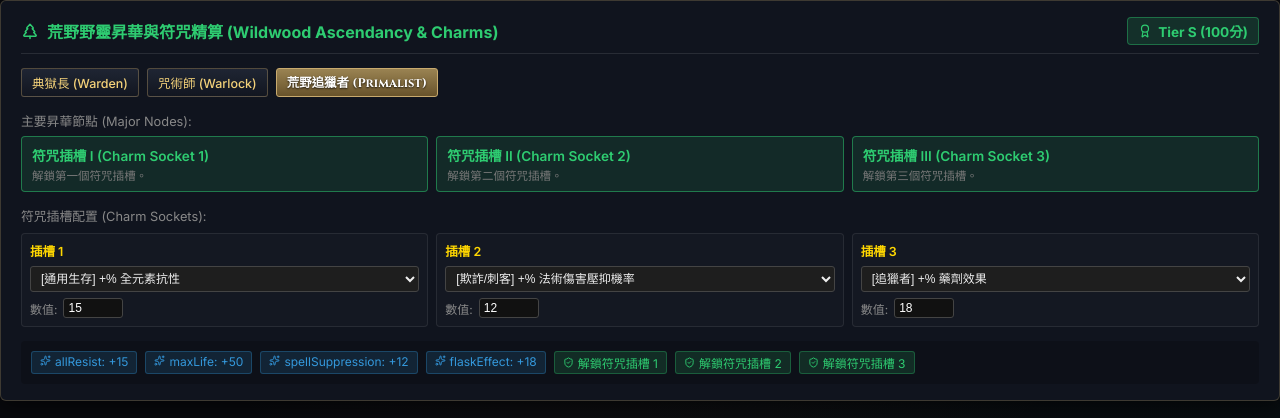
Test: WildwoodCharmsCard › toggles major node and updates special flags
Step 1. Click the button "典獄長 (Warden)" → (80, 82), box x1=21 y1=68 x2=139 y2=97
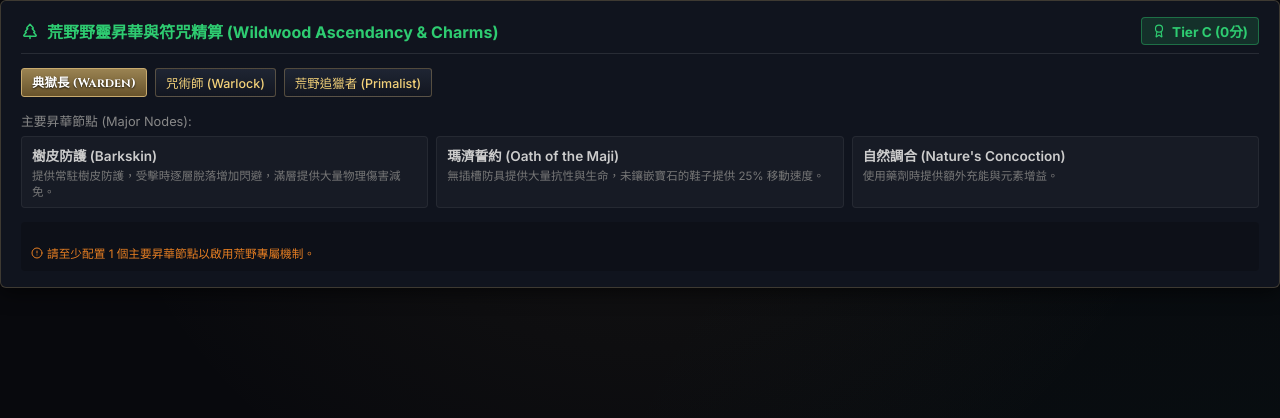
Step 2. Click the text "樹皮防護 (Barkskin)" → (95, 156), box x1=32 y1=148 x2=157 y2=164
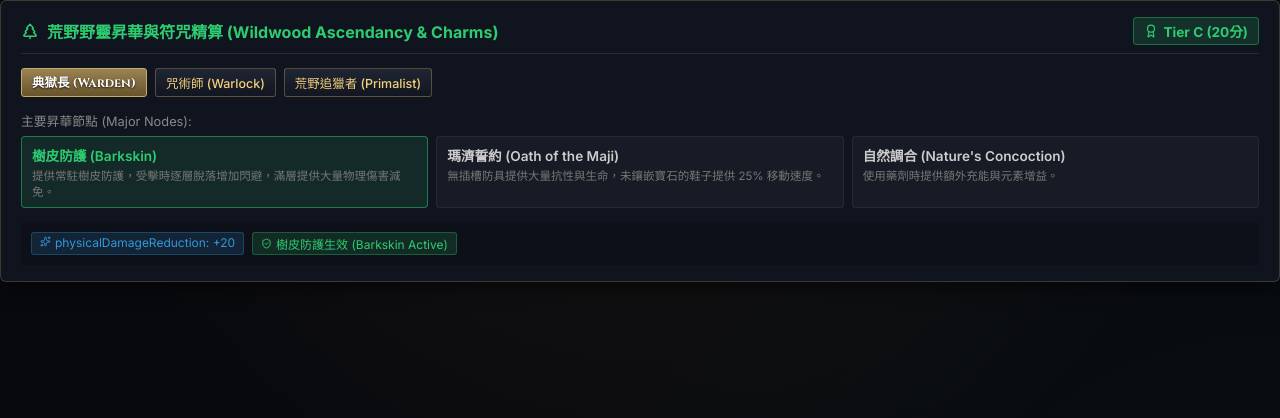
expect the text "樹皮防護生效 (Barkskin Active)" is shown: met, box x1=252 y1=232 x2=457 y2=255
